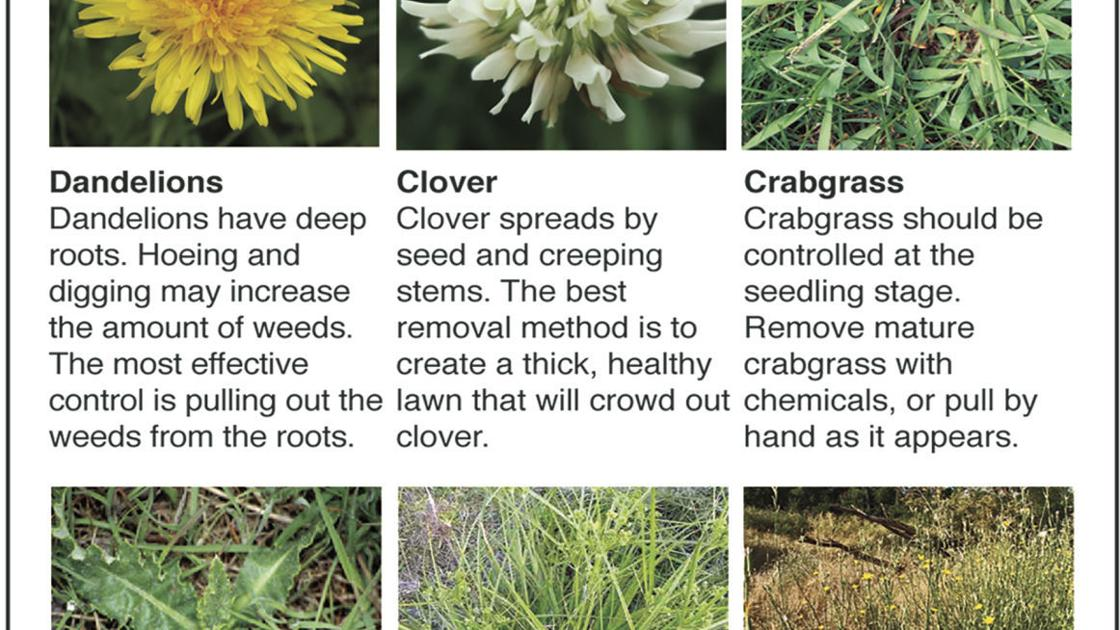crabgrass: (738, 5, 1068, 150)
